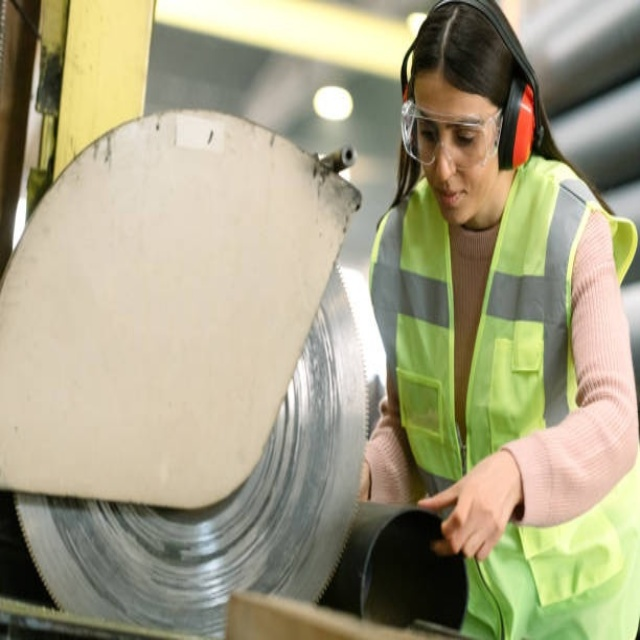Gafas: (400, 95, 504, 169)
Sin_guantes: (414, 452, 521, 563)
Sin_mascara: (428, 174, 476, 221)
